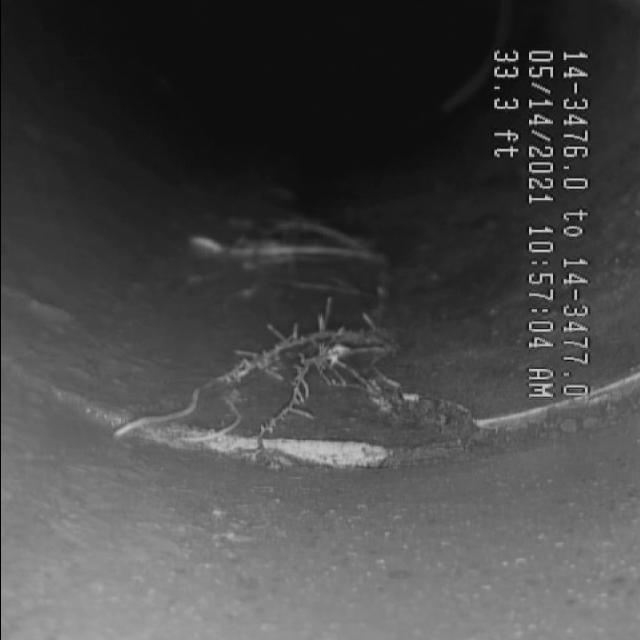Crack: (150, 252, 456, 498)
